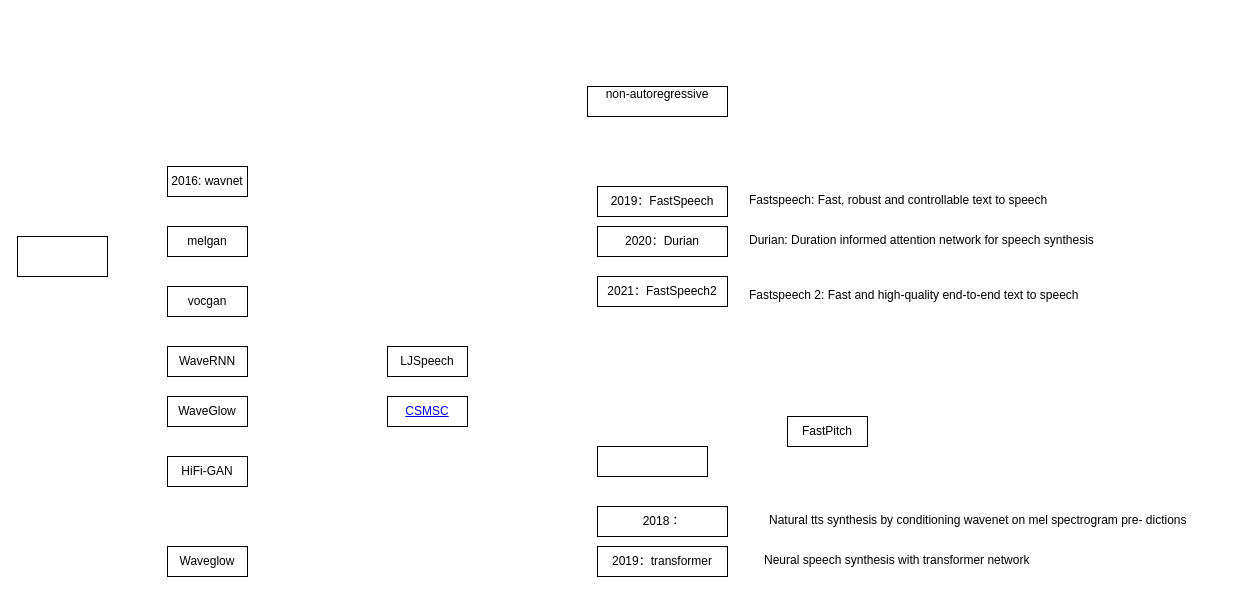
The diagram is 1235 pixels wide and 603 high, and some of its shapes have lost their labels. The shapes that lost their labels are listed below. From the top down, each one's centre as x and y in pixels, then its label:
point 62,256: 声码器
point 652,461: autoregressive
